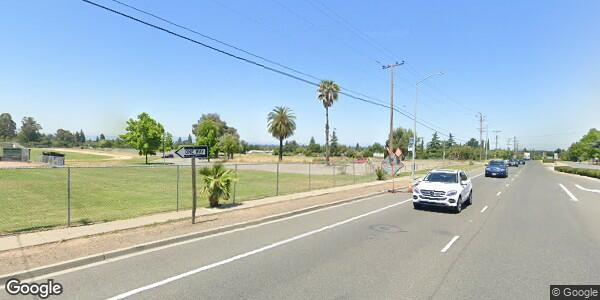Steel_Pole: (411, 72, 445, 178)
Wood_Pole: (380, 58, 407, 178)
